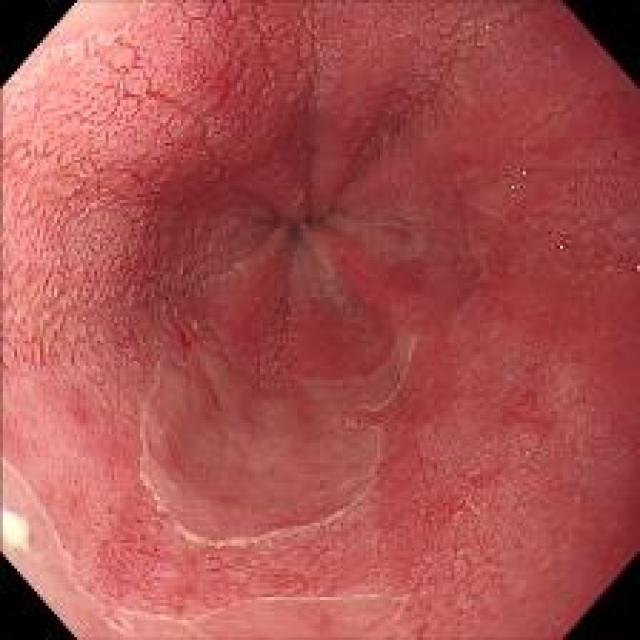bubbles: (502, 164, 532, 199), (479, 18, 502, 45)
